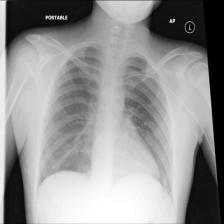normal: (37, 43, 175, 204)
